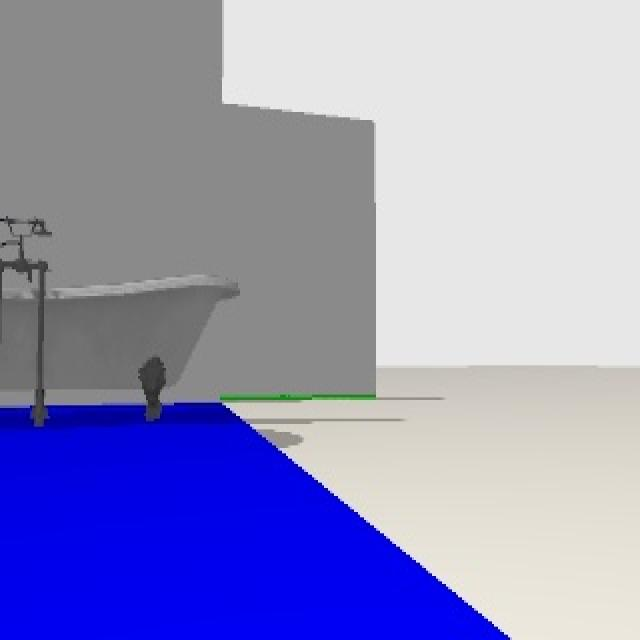bathtub: (0, 213, 240, 432)
